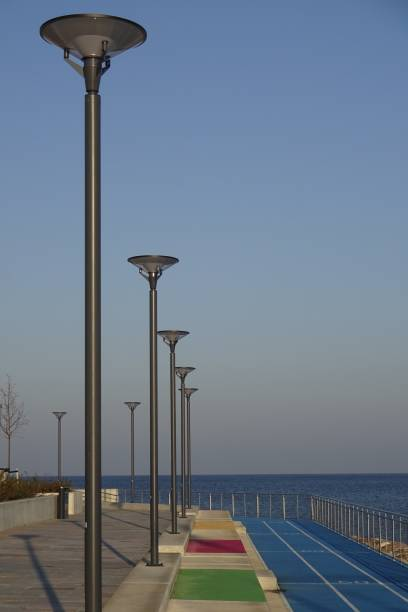light_pole: (80, 97, 106, 612), (142, 288, 165, 567)
